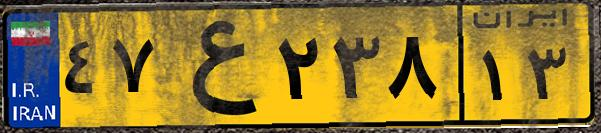1: (475, 38, 525, 113)
2: (270, 28, 330, 110)
3: (330, 28, 385, 110), (525, 38, 570, 115)
4: (57, 26, 110, 100)
7: (110, 28, 158, 98)
8: (385, 28, 445, 110)
ع: (158, 12, 270, 120)
